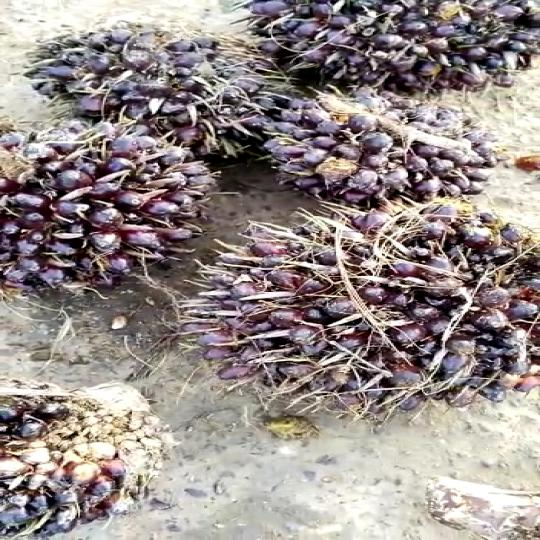mentah: (188, 191, 540, 425), (7, 110, 222, 294), (25, 22, 272, 159), (233, 0, 539, 100), (264, 92, 483, 205)
